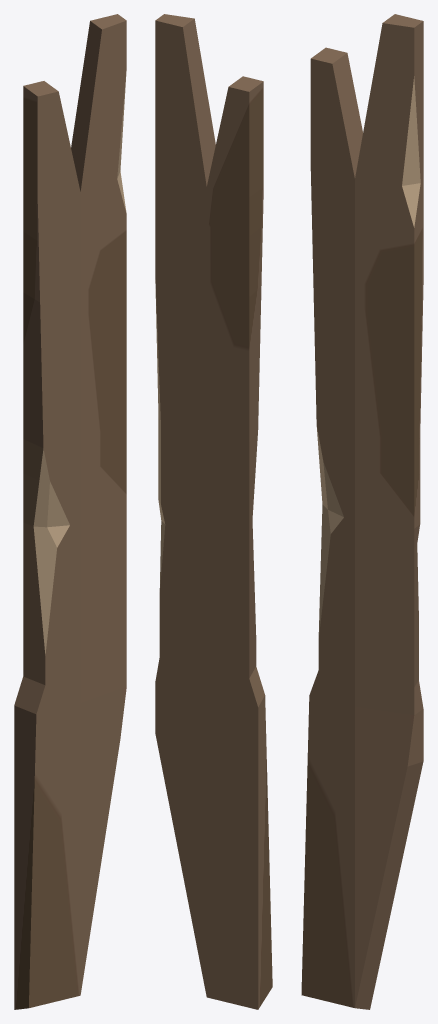
The model's file is SM_Wooden_Plank_B.fbx.
The picture shows the model from 3 angles, left to right: view 1: azimuth 30°, elevation 25°; view 2: azimuth 150°, elevation 25°; view 3: azimuth 330°, elevation 25°; orthographic projection. The views are drawn at different scales.
Parts seen in each view (by area): view 1: SM_Wooden_Plank_B; view 2: SM_Wooden_Plank_B; view 3: SM_Wooden_Plank_B.
Boxes of the visible parts, <box> form: SM_Wooden_Plank_B: <box>14,14,126,1009</box>; SM_Wooden_Plank_B: <box>155,14,272,1009</box>; SM_Wooden_Plank_B: <box>301,14,423,1009</box>.
Bounding box in the file's own units: 22.34 × 200 × 5.46.
